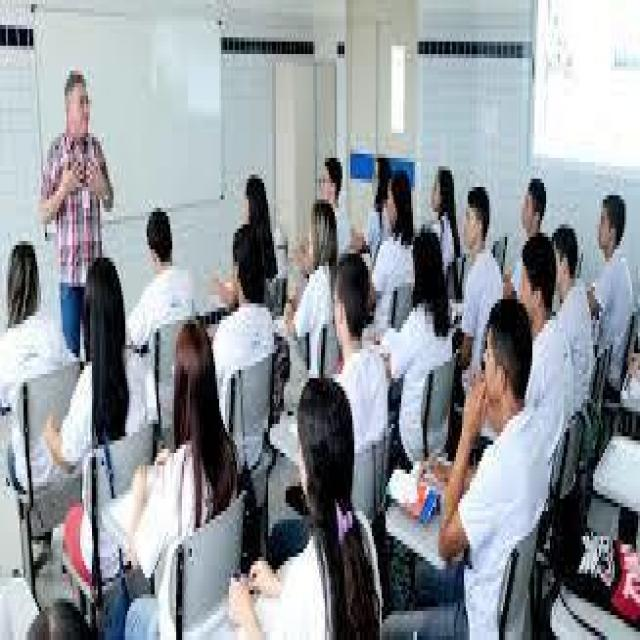person: (442, 270, 562, 636), (47, 258, 160, 590), (435, 175, 540, 494), (149, 283, 260, 582), (304, 117, 389, 466), (30, 62, 120, 391), (276, 362, 387, 628), (315, 241, 401, 511), (212, 229, 294, 507), (0, 216, 78, 494), (511, 241, 595, 482), (395, 216, 466, 478), (213, 146, 300, 337), (123, 191, 210, 362), (536, 204, 603, 416), (577, 162, 636, 378), (344, 125, 411, 308), (292, 191, 360, 370), (368, 166, 442, 278), (417, 158, 474, 283), (505, 142, 558, 254)
